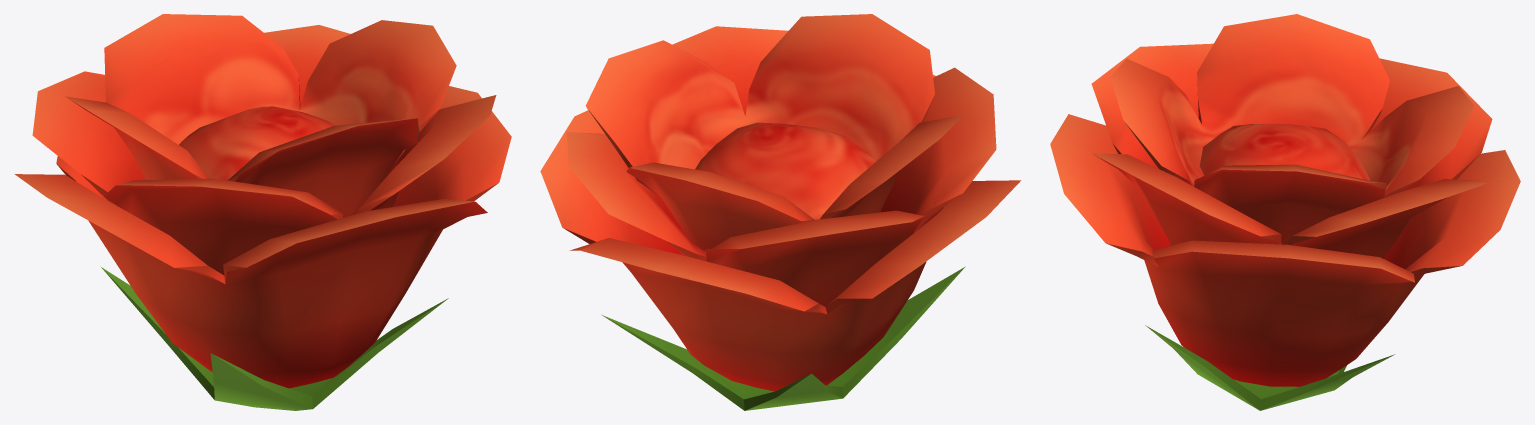
Rendered from ENV2010118.fbx.
3 views of the same model, side by side, from view 1: azimuth 30°, elevation 25°; view 2: azimuth 150°, elevation 25°; view 3: azimuth 270°, elevation 25° (orthographic). The views are drawn at different scales.
Parts seen in each view (by area): view 1: smENV2010118; view 2: smENV2010118; view 3: smENV2010118.
Part boxes in pixels (x1,y1,x2,y2): smENV2010118: [14, 14, 511, 410]; smENV2010118: [540, 14, 1020, 410]; smENV2010118: [1050, 14, 1520, 410].
Bounding box in the file's own units: 9.97 × 7.54 × 10.12.
1 material, 1 textured.
